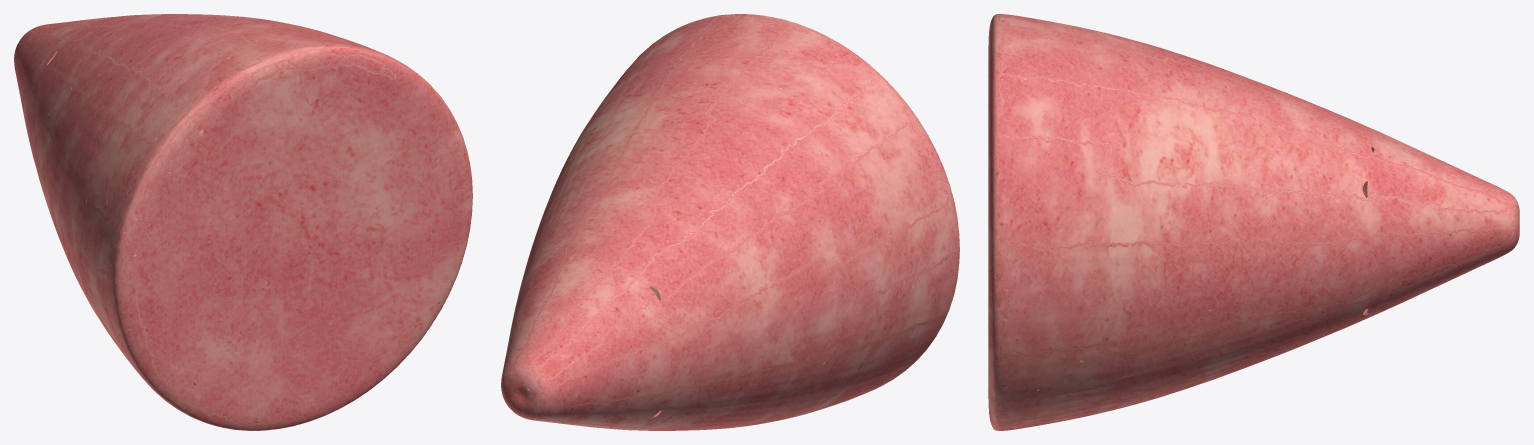
3 views of the same model, side by side, from view 1: azimuth 30°, elevation 25°; view 2: azimuth 150°, elevation 25°; view 3: azimuth 270°, elevation 25° (orthographic).
Bounding box in the file's own units: 1.26 × 1.25 × 1.6.
1 material, 1 textured.
